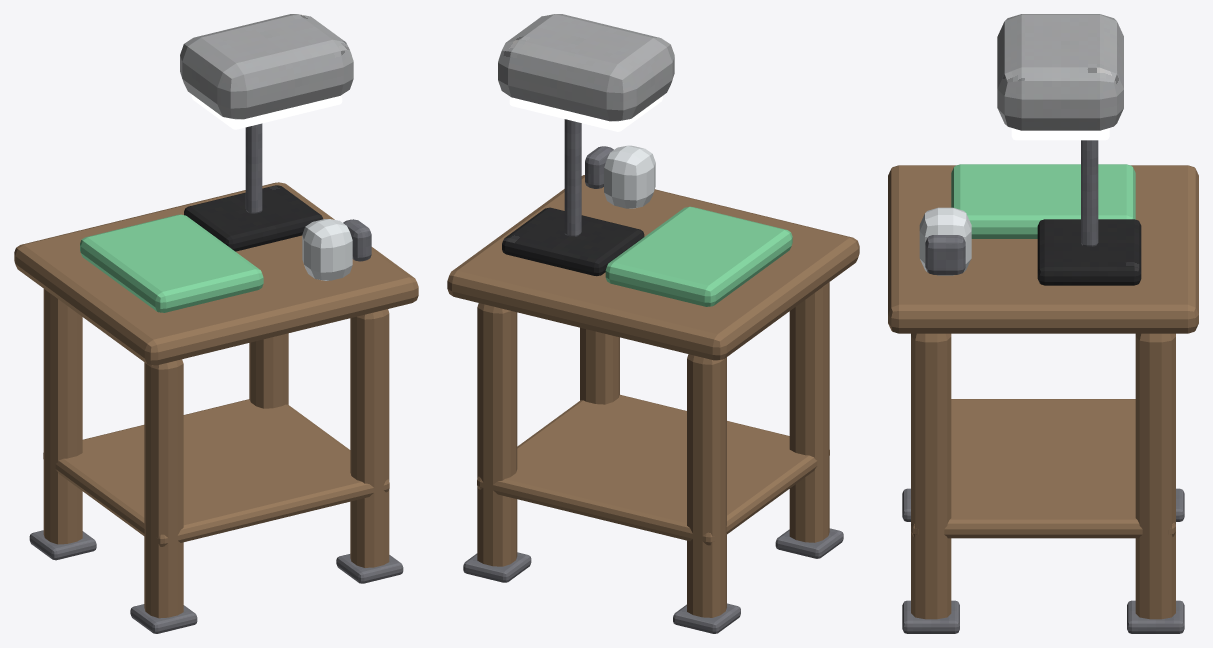
File: decor_quiet_side_table_lamp.glb
The picture shows the model from 3 angles, left to right: view 1: azimuth 30°, elevation 25°; view 2: azimuth 150°, elevation 25°; view 3: azimuth 270°, elevation 25°; orthographic projection. The views are drawn at different scales.
Visible parts, largest first — view 1: DEC_QuietSideTableLamp__Top, DEC_QuietSideTableLamp__Lower_Shelf, DEC_QuietSideTableLamp__Lamp_Shade, DEC_QuietSideTableLamp__Book, DEC_QuietSideTableLamp__Leg_0_0, DEC_QuietSideTableLamp__Leg_1_0, DEC_QuietSideTableLamp__Leg_0_1, DEC_QuietSideTableLamp__Lamp_Base, DEC_QuietSideTableLamp__Leg_1_1, DEC_QuietSideTableLamp__Mug, DEC_QuietSideTableLamp__Lamp_Stem, DEC_QuietSideTableLamp__Lamp_Diffuser (+4 smaller); view 2: DEC_QuietSideTableLamp__Top, DEC_QuietSideTableLamp__Lower_Shelf, DEC_QuietSideTableLamp__Lamp_Shade, DEC_QuietSideTableLamp__Book, DEC_QuietSideTableLamp__Leg_0_1, DEC_QuietSideTableLamp__Leg_1_1, DEC_QuietSideTableLamp__Leg_0_0, DEC_QuietSideTableLamp__Lamp_Base, DEC_QuietSideTableLamp__Mug, DEC_QuietSideTableLamp__Leg_1_0, DEC_QuietSideTableLamp__Lamp_Stem, DEC_QuietSideTableLamp__Lamp_Diffuser (+4 smaller); view 3: DEC_QuietSideTableLamp__Top, DEC_QuietSideTableLamp__Lower_Shelf, DEC_QuietSideTableLamp__Lamp_Shade, DEC_QuietSideTableLamp__Leg_1_0, DEC_QuietSideTableLamp__Leg_1_1, DEC_QuietSideTableLamp__Book, DEC_QuietSideTableLamp__Lamp_Base, DEC_QuietSideTableLamp__Lamp_Stem, DEC_QuietSideTableLamp__Mug, DEC_QuietSideTableLamp__Mug_Handle, DEC_QuietSideTableLamp__Foot_1_0, DEC_QuietSideTableLamp__Foot_1_1 (+1 smaller).
Part boxes in pixels (x1,y1,x2,y2): DEC_QuietSideTableLamp__Top: (14, 182, 418, 365); DEC_QuietSideTableLamp__Lower_Shelf: (43, 399, 389, 546); DEC_QuietSideTableLamp__Lamp_Shade: (180, 14, 353, 119); DEC_QuietSideTableLamp__Book: (80, 214, 263, 312); DEC_QuietSideTableLamp__Leg_0_0: (144, 359, 183, 618); DEC_QuietSideTableLamp__Leg_1_0: (350, 309, 389, 567); DEC_QuietSideTableLamp__Leg_0_1: (43, 289, 82, 544); DEC_QuietSideTableLamp__Lamp_Base: (184, 185, 322, 251); DEC_QuietSideTableLamp__Leg_1_1: (249, 333, 288, 408); DEC_QuietSideTableLamp__Mug: (302, 219, 352, 280); DEC_QuietSideTableLamp__Lamp_Stem: (245, 123, 262, 213); DEC_QuietSideTableLamp__Lamp_Diffuser: (191, 94, 342, 129); DEC_QuietSideTableLamp__Top: (447, 175, 859, 360); DEC_QuietSideTableLamp__Lower_Shelf: (477, 394, 829, 545); DEC_QuietSideTableLamp__Lamp_Shade: (498, 14, 674, 121); DEC_QuietSideTableLamp__Book: (605, 206, 792, 306); DEC_QuietSideTableLamp__Leg_0_1: (687, 354, 726, 617); DEC_QuietSideTableLamp__Leg_1_1: (477, 303, 517, 566); DEC_QuietSideTableLamp__Leg_0_0: (789, 282, 829, 542); DEC_QuietSideTableLamp__Lamp_Base: (502, 207, 644, 276); DEC_QuietSideTableLamp__Mug: (604, 145, 655, 208); DEC_QuietSideTableLamp__Leg_1_0: (580, 327, 619, 404); DEC_QuietSideTableLamp__Lamp_Stem: (564, 119, 581, 236); DEC_QuietSideTableLamp__Lamp_Diffuser: (509, 96, 662, 131); DEC_QuietSideTableLamp__Top: (888, 165, 1198, 333); DEC_QuietSideTableLamp__Lower_Shelf: (911, 399, 1175, 538); DEC_QuietSideTableLamp__Lamp_Shade: (997, 14, 1123, 130); DEC_QuietSideTableLamp__Leg_1_0: (911, 333, 951, 619); DEC_QuietSideTableLamp__Leg_1_1: (1135, 333, 1175, 619); DEC_QuietSideTableLamp__Book: (951, 164, 1135, 238); DEC_QuietSideTableLamp__Lamp_Base: (1037, 219, 1141, 285); DEC_QuietSideTableLamp__Lamp_Stem: (1081, 140, 1098, 246); DEC_QuietSideTableLamp__Mug: (919, 207, 971, 275); DEC_QuietSideTableLamp__Mug_Handle: (925, 235, 965, 274); DEC_QuietSideTableLamp__Foot_1_0: (902, 600, 959, 633); DEC_QuietSideTableLamp__Foot_1_1: (1127, 600, 1184, 633).
Bounding box in the file's own units: 0.61 × 1.07 × 0.54.
Materials: 7 (3 with a texture image).
